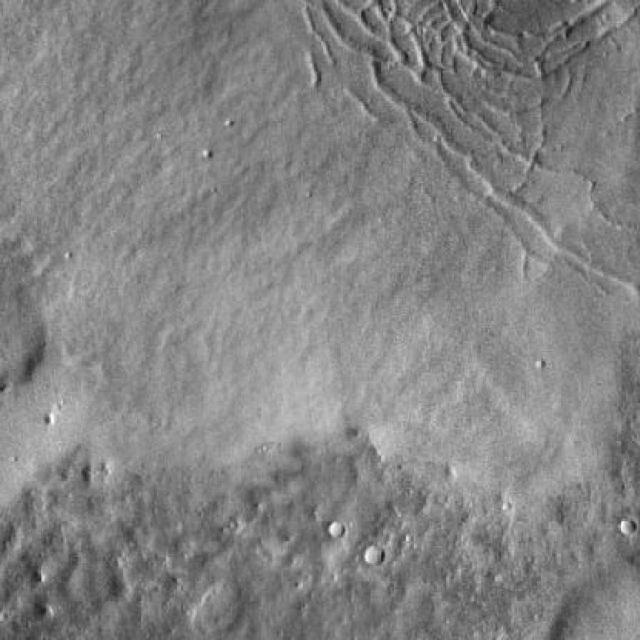crater: (362, 545, 383, 567), (618, 518, 638, 538), (327, 520, 344, 538)
